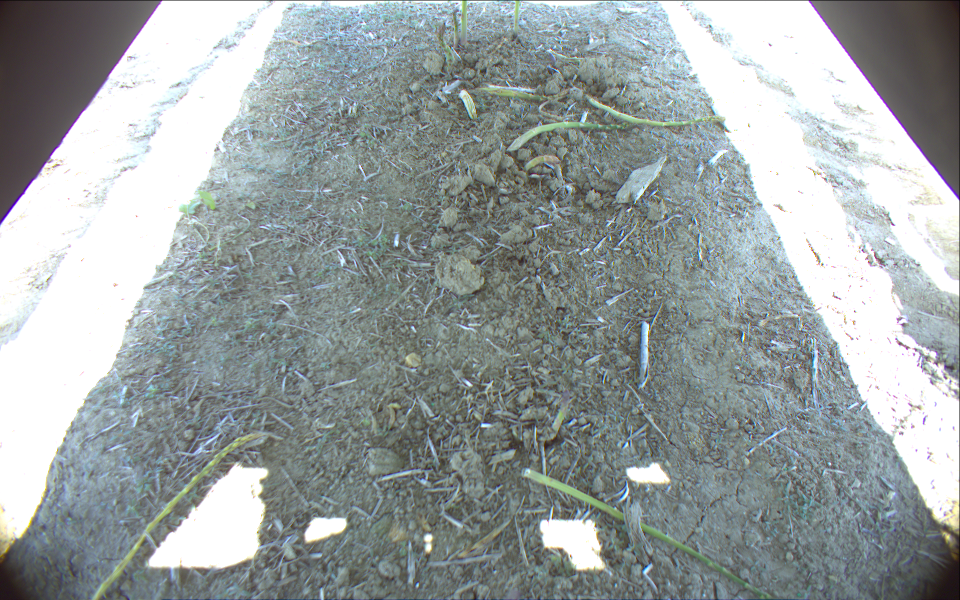aspa: (518, 466, 771, 600), (85, 432, 267, 600), (507, 117, 639, 154), (586, 96, 725, 127), (482, 84, 571, 100), (438, 22, 454, 67), (451, 9, 460, 50), (462, 1, 468, 47), (513, 1, 521, 33)
